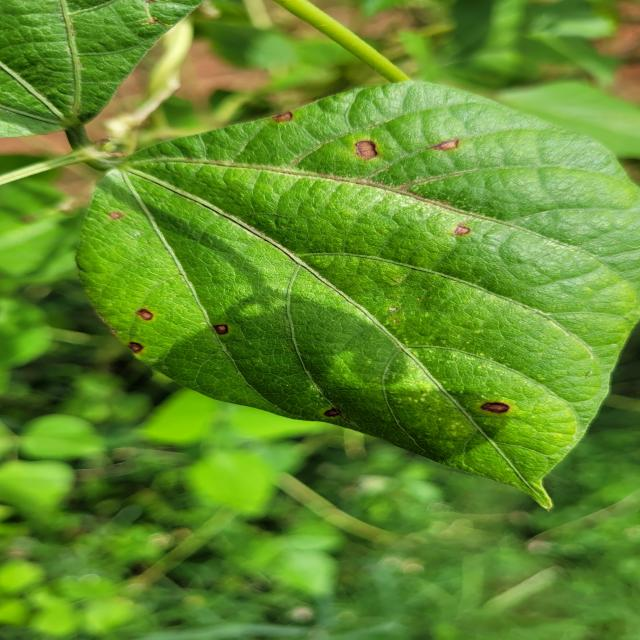Dolicos bean_cercospora leaf spot: (79, 82, 640, 511)
